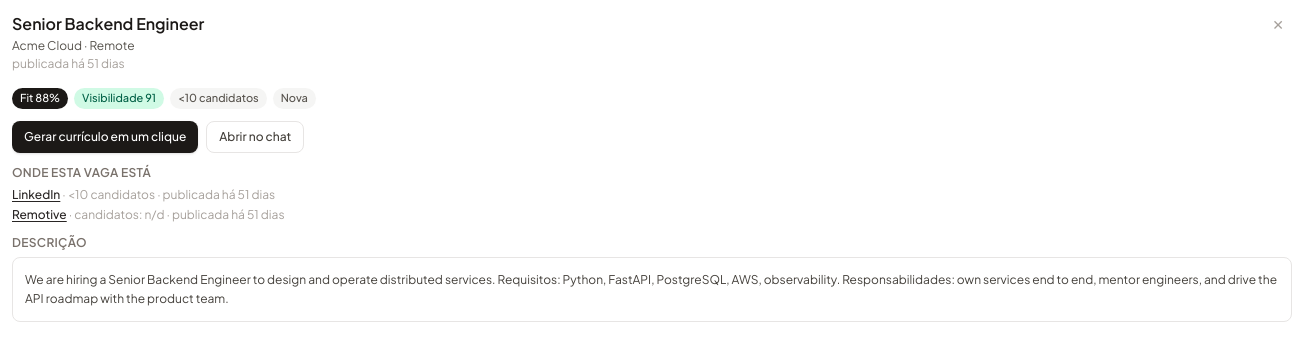
Test: ListingDetail › a 502 shows the backend's actionable message and leaves the button usable for a retry
The image size is (1304, 363).
What coordinates should you click on to do the following:
click the button "Gerar currículo em um clique"
I would click on:
 (105, 136)
Its box is [12,120,198,152].
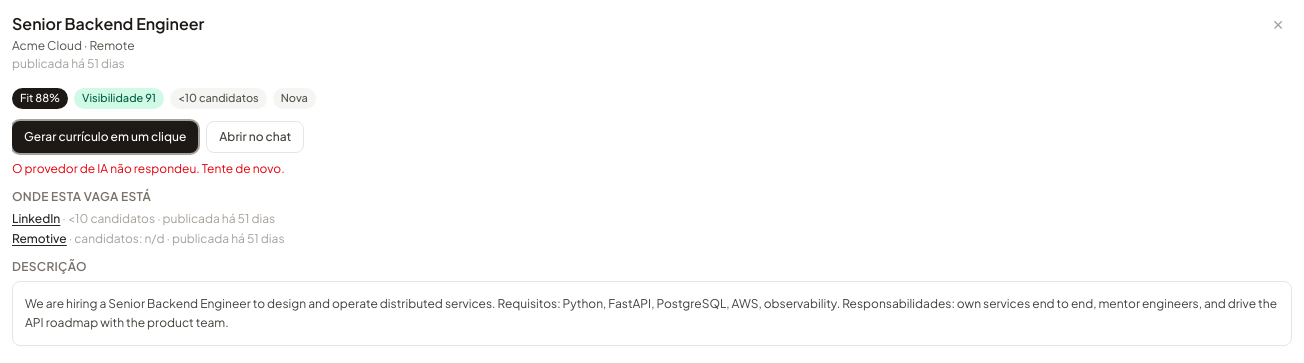
Check: the message reads "O provedor de IA não respondeu. Tente de novo.", box [12,160,285,176]
